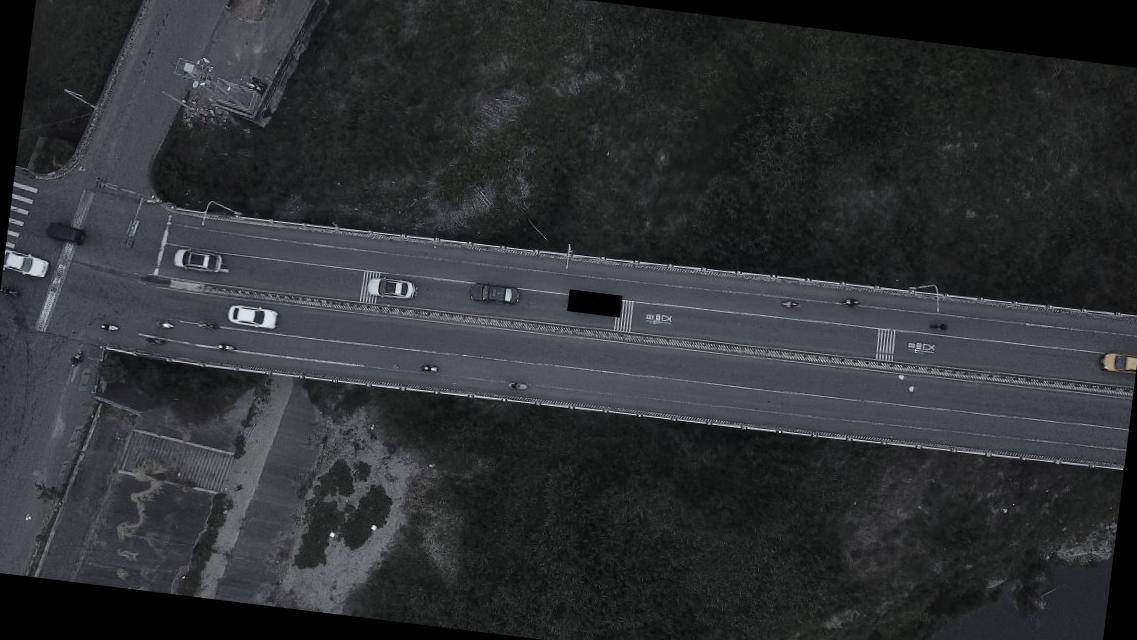vehicle: (226, 302, 280, 332), (2, 248, 50, 280), (172, 246, 224, 274), (366, 274, 416, 303), (467, 280, 522, 306), (44, 220, 88, 244), (1098, 351, 1136, 376)
